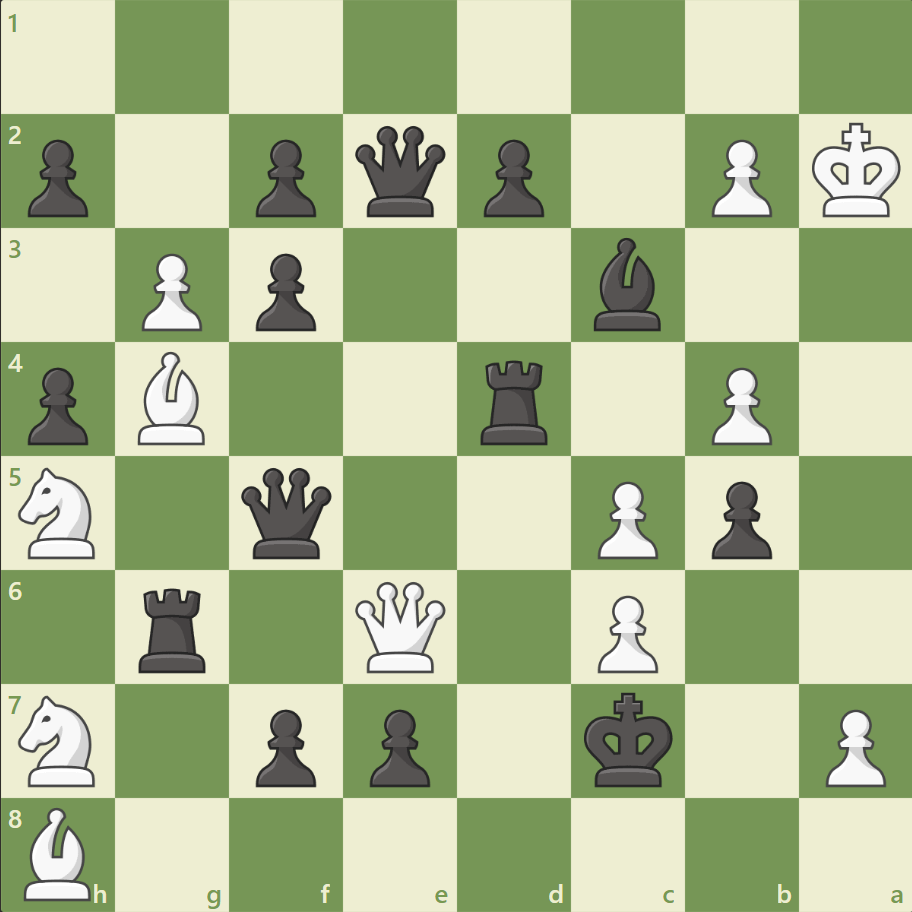B: (17, 801, 101, 904), (131, 347, 215, 449)
K: (806, 117, 906, 225)
N: (11, 688, 108, 791), (11, 461, 108, 564)
P: (701, 359, 776, 450), (133, 246, 208, 337), (701, 132, 776, 223), (815, 700, 889, 791), (588, 586, 662, 677), (588, 473, 662, 564)
Q: (351, 576, 450, 676)
b: (585, 233, 669, 336)
k: (579, 685, 679, 793)
p: (247, 700, 322, 791), (701, 473, 776, 564), (20, 359, 95, 450), (247, 246, 322, 337), (474, 132, 549, 223), (247, 132, 322, 223), (20, 132, 95, 223), (361, 700, 435, 791)
q: (351, 122, 450, 222), (237, 463, 336, 562)
r: (473, 352, 556, 449), (133, 579, 215, 676)
